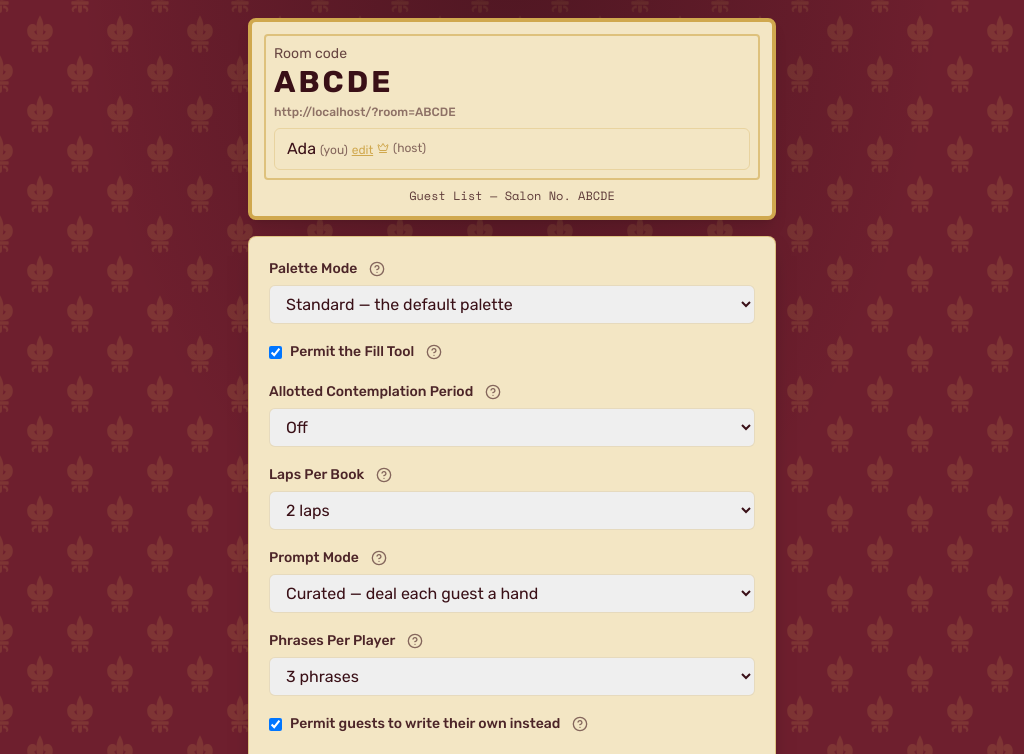
it: Lobby host-setting info affordances › explains the write-in toggle
Click the button named "About permitting a write-in" at coordinates (580, 724), box left=568, top=712, right=592, bottom=736
(page scrolled)
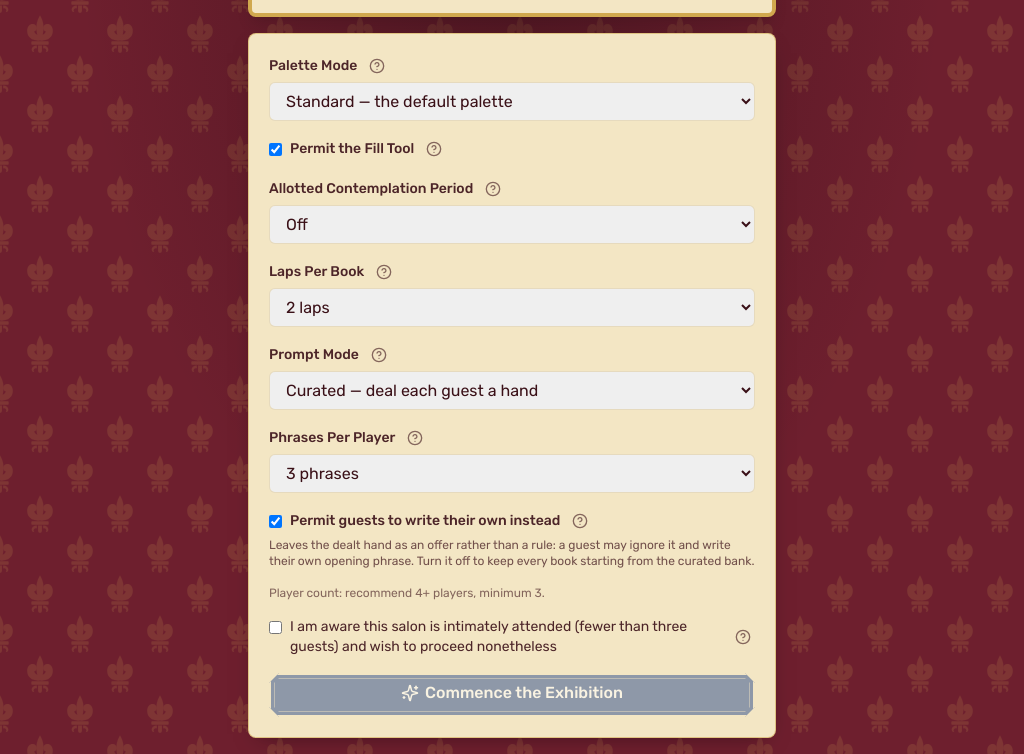
Expected: the text "offer rather than a rule" is shown, left=269, top=538, right=754, bottom=568
